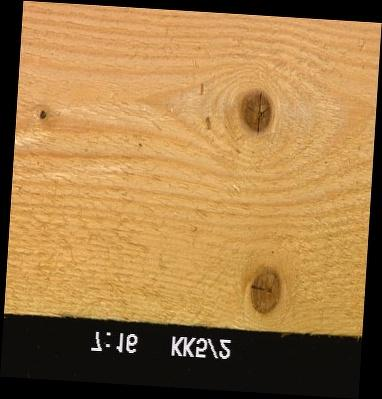dry_knot: (35, 107, 48, 123)
sound_knot: (238, 91, 274, 133), (248, 267, 280, 314)
